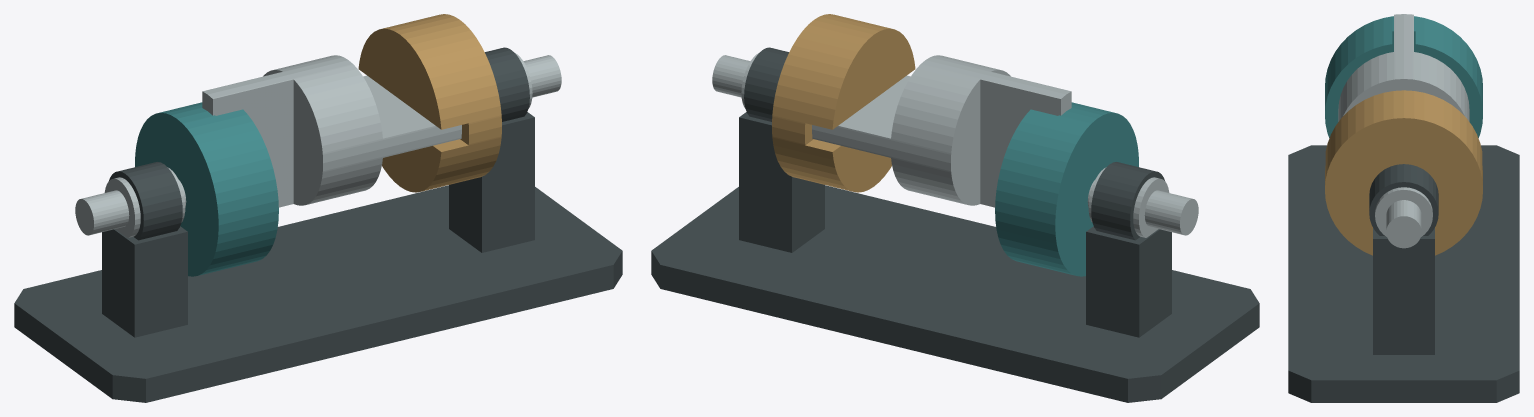
3 views of the same model, side by side, from view 1: azimuth 30°, elevation 25°; view 2: azimuth 150°, elevation 25°; view 3: azimuth 270°, elevation 25° (orthographic). The views are drawn at different scales.
Parts seen in each view (by area): view 1: WholeChamferedDisplayFoot, WholeCentralOrthogonalDoubleTongueDisc, WholeOutputHorizontalSlotHub, WholeInputVerticalSlotHub, WholeInputPedestal, WholeOutputPedestal, WholeInputBoredBearing, WholeInputCollaredShaft, WholeOutputBoredBearing, WholeOutputCollaredShaft; view 2: WholeChamferedDisplayFoot, WholeCentralOrthogonalDoubleTongueDisc, WholeOutputHorizontalSlotHub, WholeInputVerticalSlotHub, WholeInputPedestal, WholeOutputPedestal, WholeInputBoredBearing, WholeInputCollaredShaft, WholeOutputBoredBearing, WholeOutputCollaredShaft; view 3: WholeChamferedDisplayFoot, WholeOutputHorizontalSlotHub, WholeOutputPedestal, WholeInputVerticalSlotHub, WholeCentralOrthogonalDoubleTongueDisc, WholeOutputCollaredShaft, WholeOutputBoredBearing.
Part boxes in pixels (x1=…): WholeChamferedDisplayFoot: x1=14, y1=185, x2=622, y2=402; WholeCentralOrthogonalDoubleTongueDisc: x1=202, y1=55, x2=461, y2=207; WholeOutputHorizontalSlotHub: x1=358, y1=14, x2=501, y2=192; WholeInputVerticalSlotHub: x1=135, y1=102, x2=278, y2=276; WholeInputPedestal: x1=102, y1=226, x2=187, y2=337; WholeOutputPedestal: x1=449, y1=112, x2=534, y2=252; WholeInputBoredBearing: x1=109, y1=162, x2=182, y2=240; WholeInputCollaredShaft: x1=75, y1=167, x2=186, y2=237; WholeOutputBoredBearing: x1=485, y1=47, x2=529, y2=121; WholeOutputCollaredShaft: x1=515, y1=53, x2=561, y2=108; WholeChamferedDisplayFoot: x1=651, y1=185, x2=1259, y2=402; WholeCentralOrthogonalDoubleTongueDisc: x1=812, y1=55, x2=1071, y2=207; WholeOutputHorizontalSlotHub: x1=772, y1=14, x2=915, y2=192; WholeInputVerticalSlotHub: x1=995, y1=102, x2=1138, y2=276; WholeInputPedestal: x1=1086, y1=226, x2=1171, y2=337; WholeOutputPedestal: x1=739, y1=112, x2=824, y2=252; WholeInputBoredBearing: x1=1091, y1=162, x2=1164, y2=240; WholeInputCollaredShaft: x1=1087, y1=167, x2=1198, y2=237; WholeOutputBoredBearing: x1=744, y1=47, x2=788, y2=121; WholeOutputCollaredShaft: x1=712, y1=53, x2=758, y2=108; WholeChamferedDisplayFoot: x1=1288, y1=145, x2=1519, y2=402; WholeOutputHorizontalSlotHub: x1=1325, y1=90, x2=1482, y2=255; WholeOutputPedestal: x1=1373, y1=228, x2=1434, y2=354; WholeInputVerticalSlotHub: x1=1325, y1=16, x2=1482, y2=137; WholeCentralOrthogonalDoubleTongueDisc: x1=1338, y1=14, x2=1469, y2=121; WholeOutputCollaredShaft: x1=1375, y1=187, x2=1432, y2=248; WholeOutputBoredBearing: x1=1369, y1=164, x2=1438, y2=235.
Bounding box in the file's own units: 1.44 × 0.665 × 0.6.
